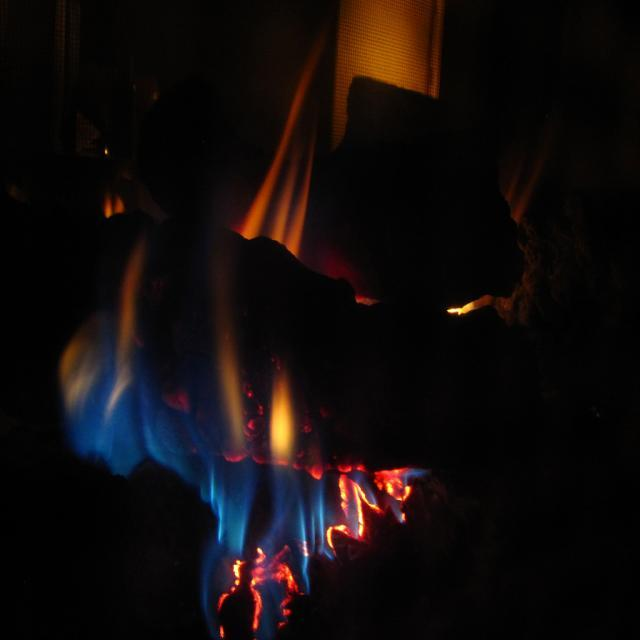Fire: (333, 7, 428, 85), (270, 380, 298, 452)
